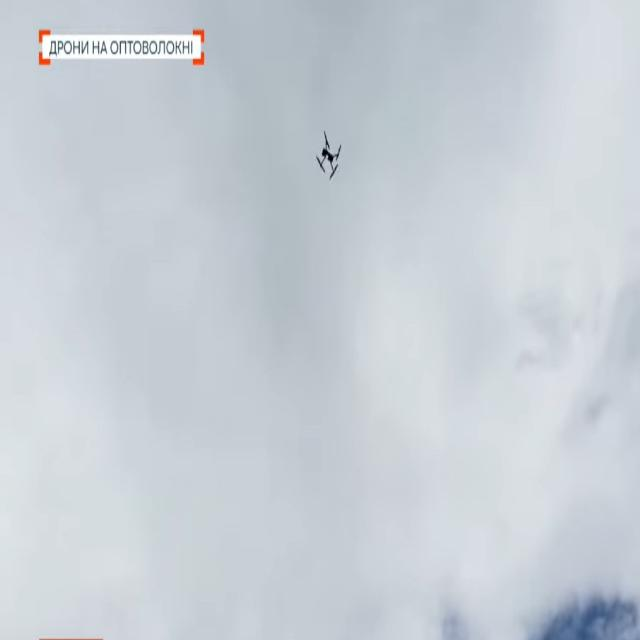drone: (313, 129, 343, 184)
